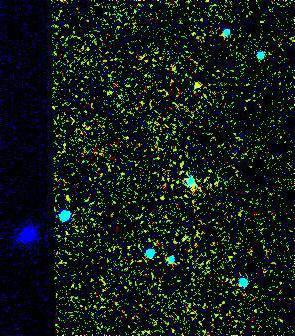star: (148, 181, 178, 211)
